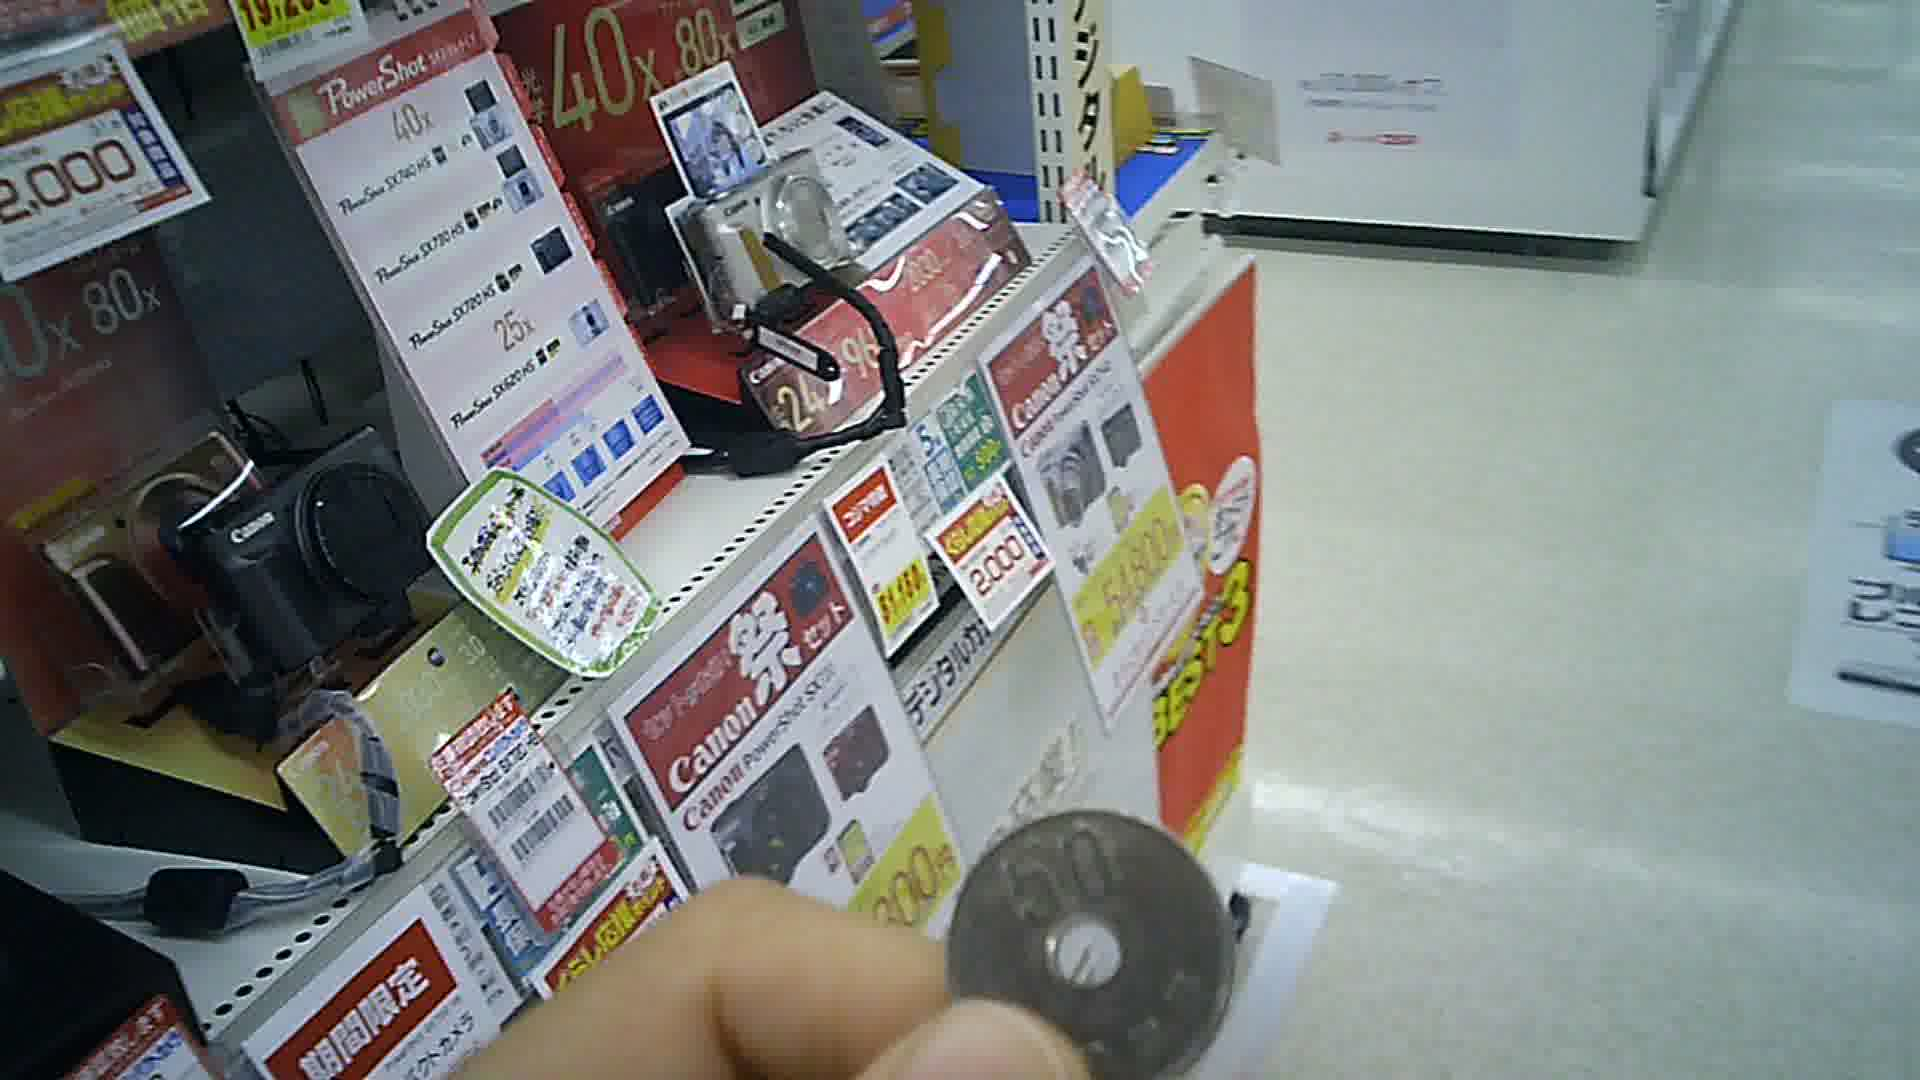50 Yen: (943, 808, 1240, 1079)
